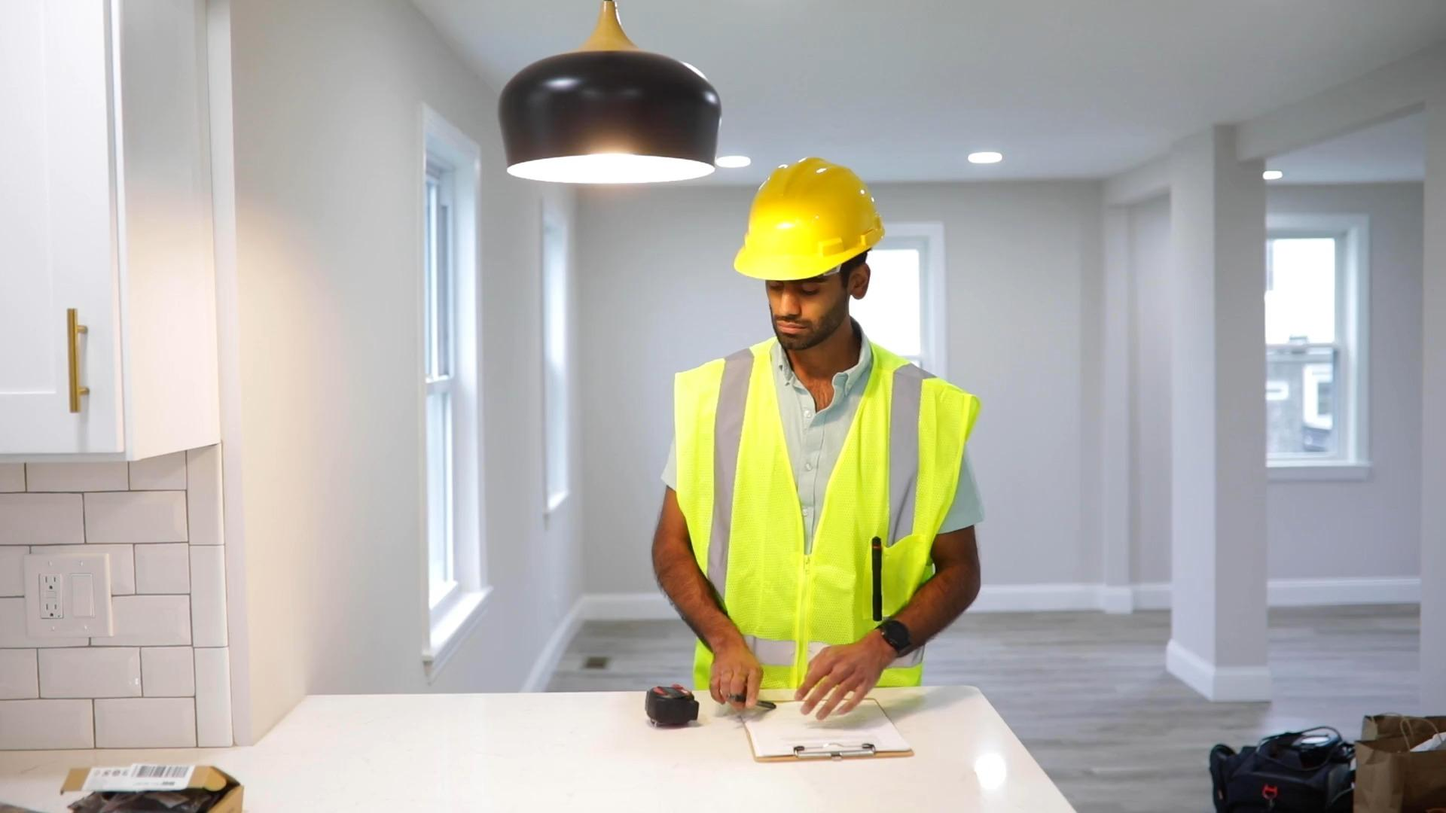Helmet: (728, 158, 866, 274)
Person: (650, 156, 984, 720)
Safety Vest: (679, 378, 942, 701)
bare-arms: (799, 629, 881, 713), (692, 636, 760, 705)
